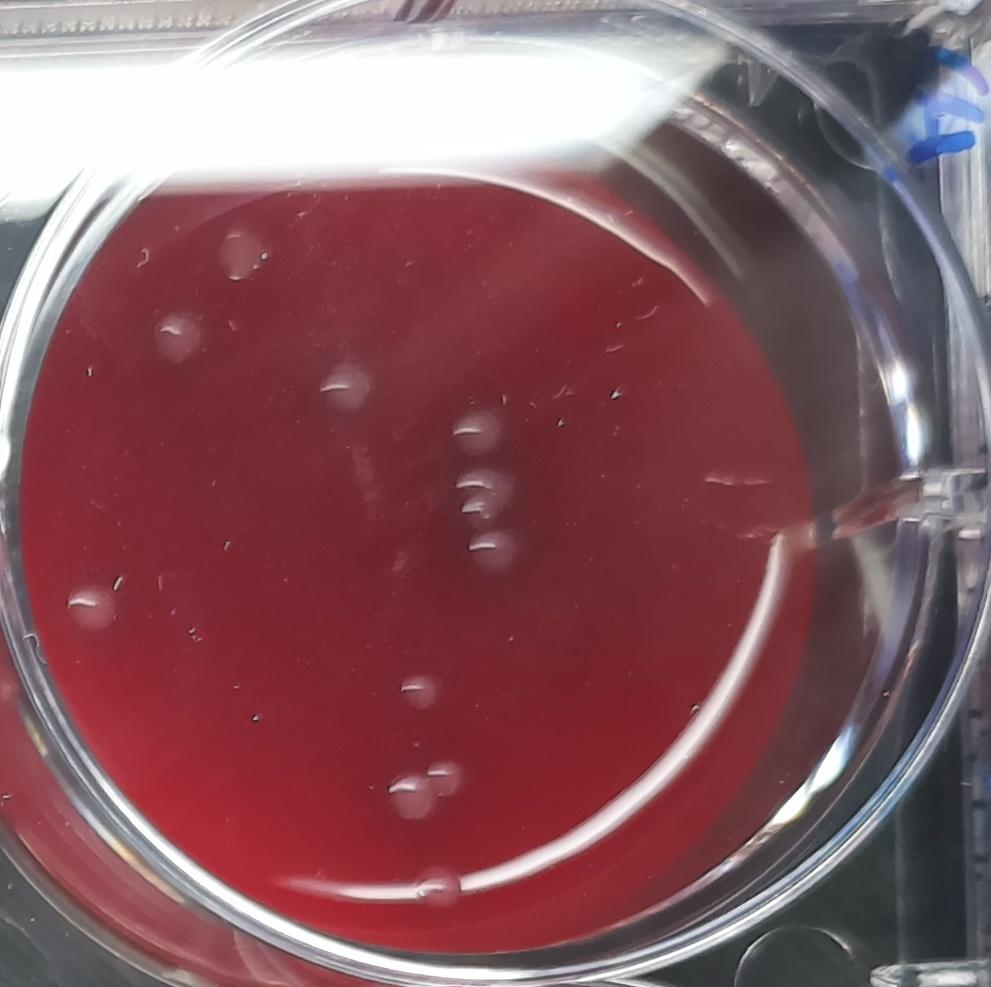vangil: (378, 746, 464, 828), (449, 462, 517, 539), (203, 219, 271, 291), (59, 578, 126, 650), (446, 395, 509, 467), (315, 353, 372, 418), (144, 300, 200, 366), (467, 528, 524, 586), (395, 667, 446, 718)
